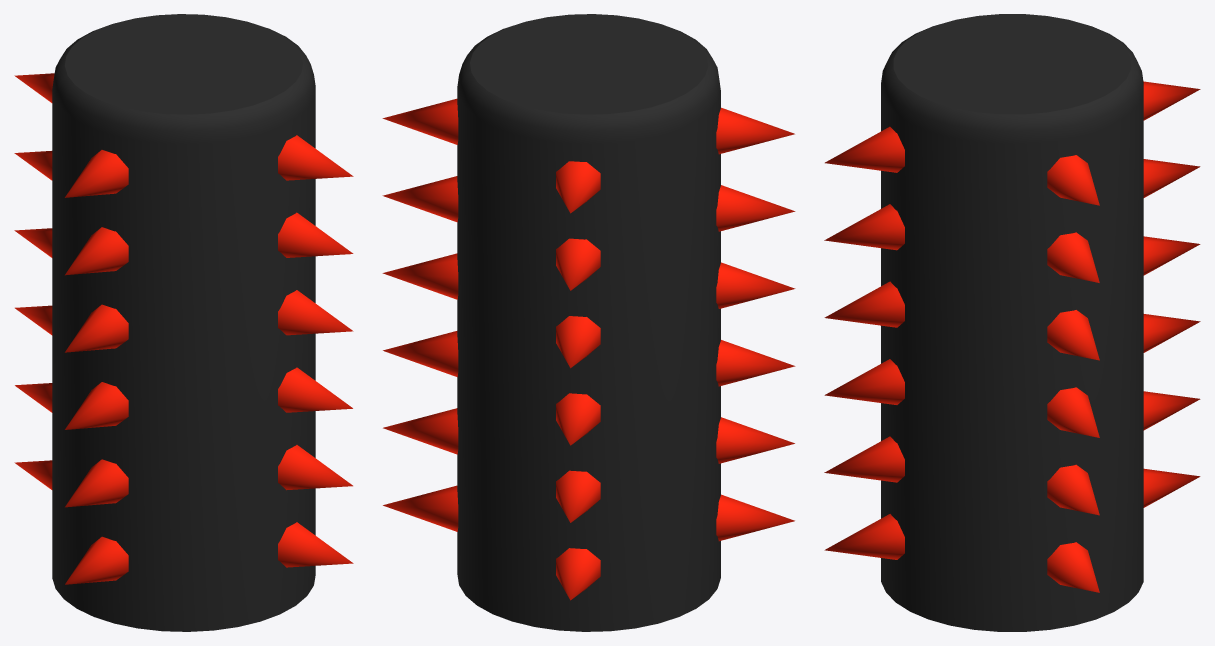
3 renders of one model, left to right at view 1: azimuth 30°, elevation 25°; view 2: azimuth 150°, elevation 25°; view 3: azimuth 270°, elevation 25°, orthographic.
Visible parts, largest first — view 1: CylinderObstacle; view 2: CylinderObstacle; view 3: CylinderObstacle.
Boxes of the visible parts, bbox=[...] form: CylinderObstacle: bbox=[14, 14, 353, 631]; CylinderObstacle: bbox=[382, 14, 795, 631]; CylinderObstacle: bbox=[824, 14, 1200, 631].
Bounding box in the file's own units: 182 × 273 × 182.
